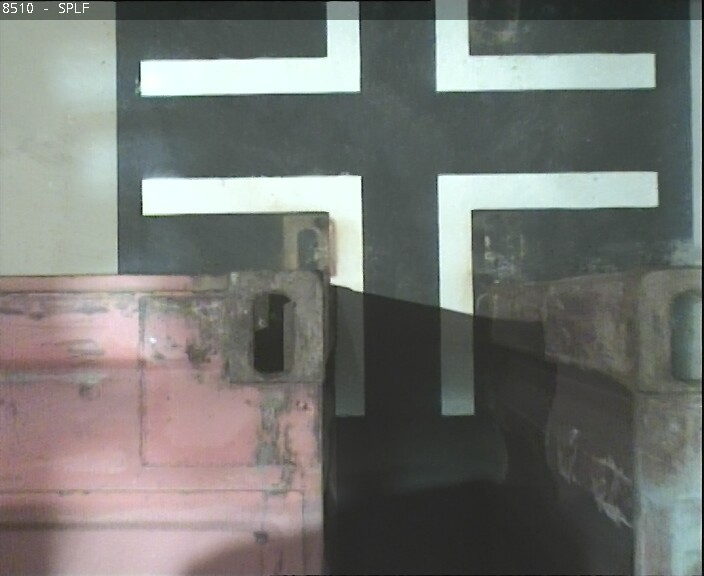groundmarker_1: (143, 173, 662, 416), (139, 1, 654, 98)
